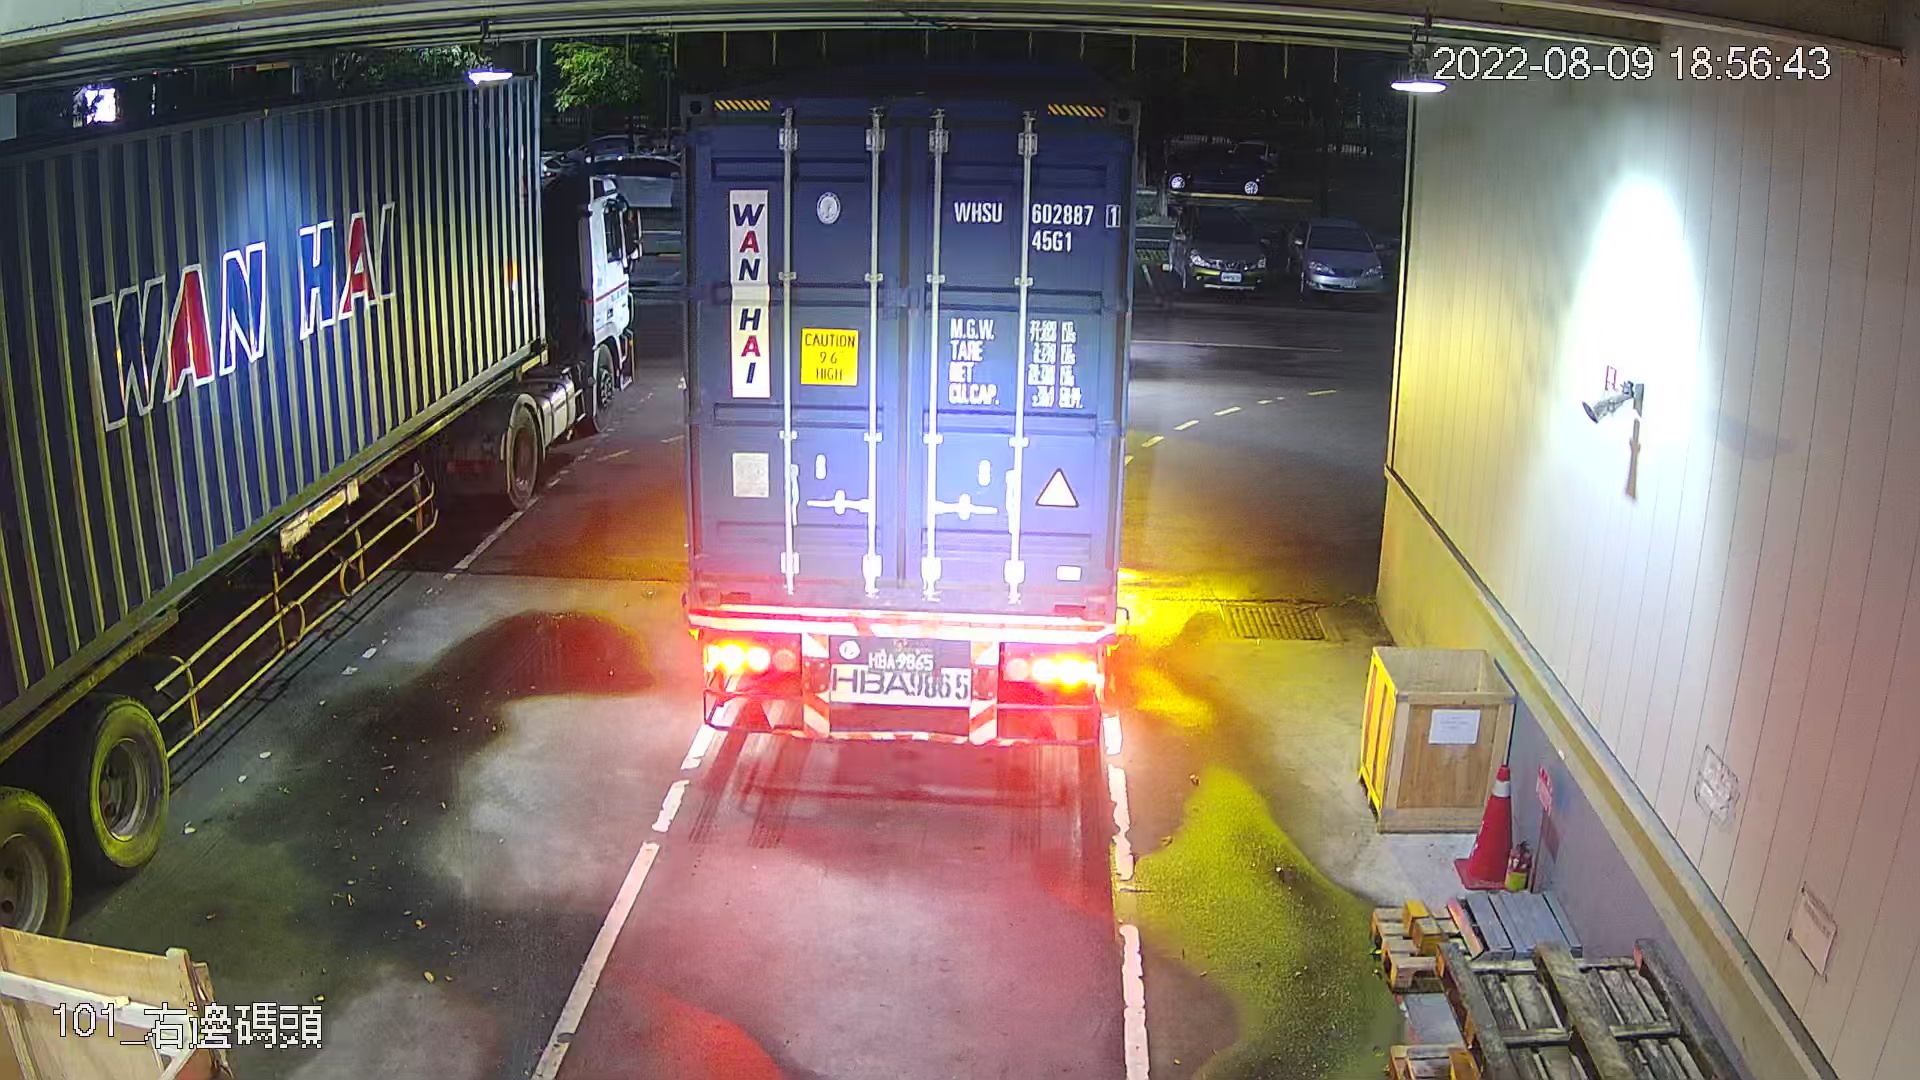container: (945, 189, 1126, 260)
